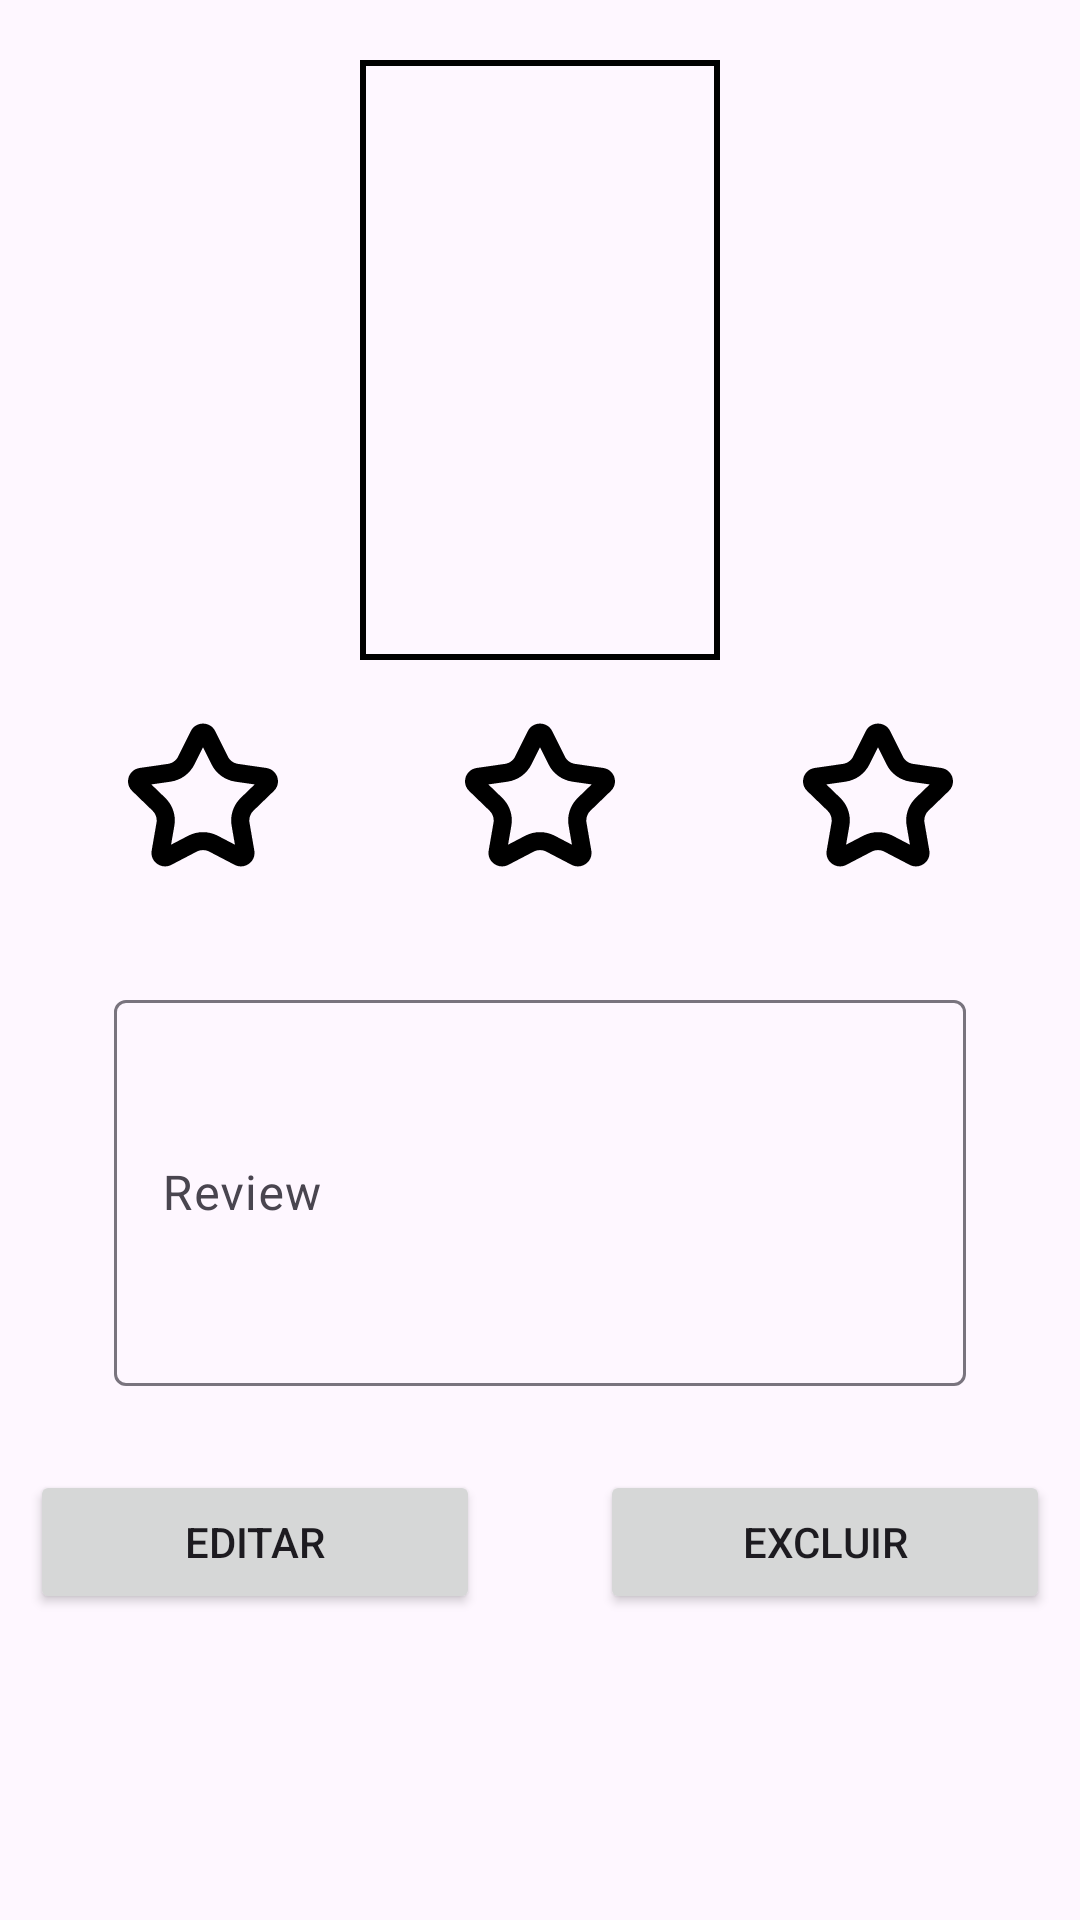

Where icons sit on this 1080w x 1920h app screen, as {"x1": x1, "y1": y1, "x2": x2, "y2": y2}:
star empty: {"x1": 128, "y1": 723, "x2": 278, "y2": 867}, {"x1": 465, "y1": 723, "x2": 615, "y2": 867}, {"x1": 803, "y1": 723, "x2": 953, "y2": 867}
